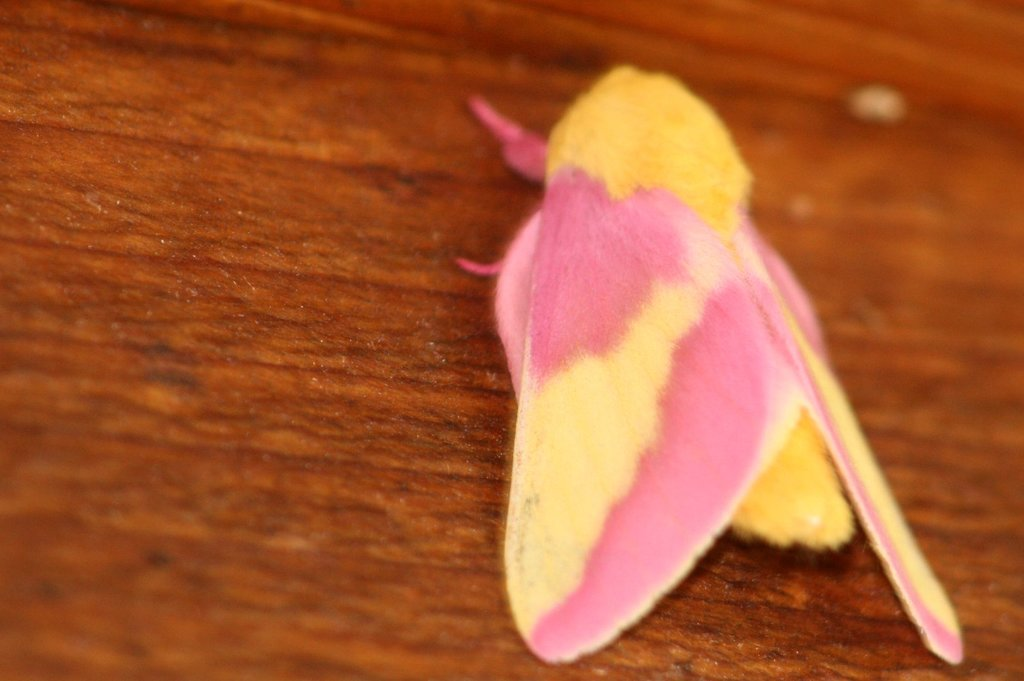Butterfly: (432, 41, 970, 666)
